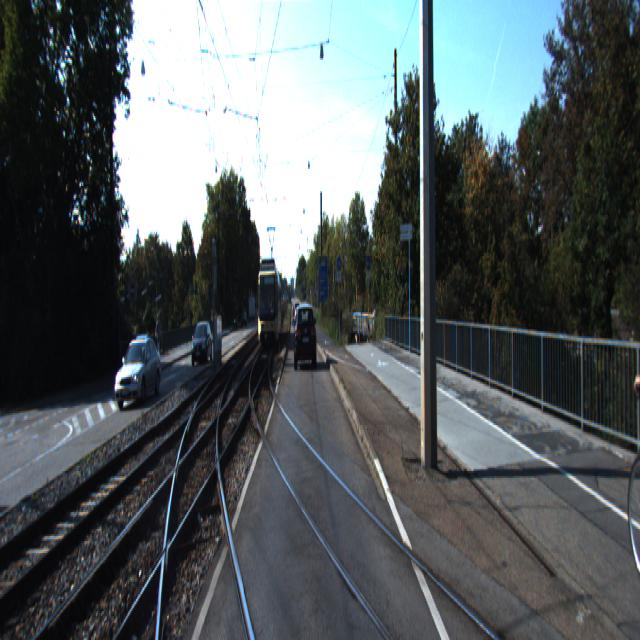Car: (112, 334, 162, 412), (256, 253, 284, 351), (295, 304, 315, 370), (190, 322, 214, 368)
